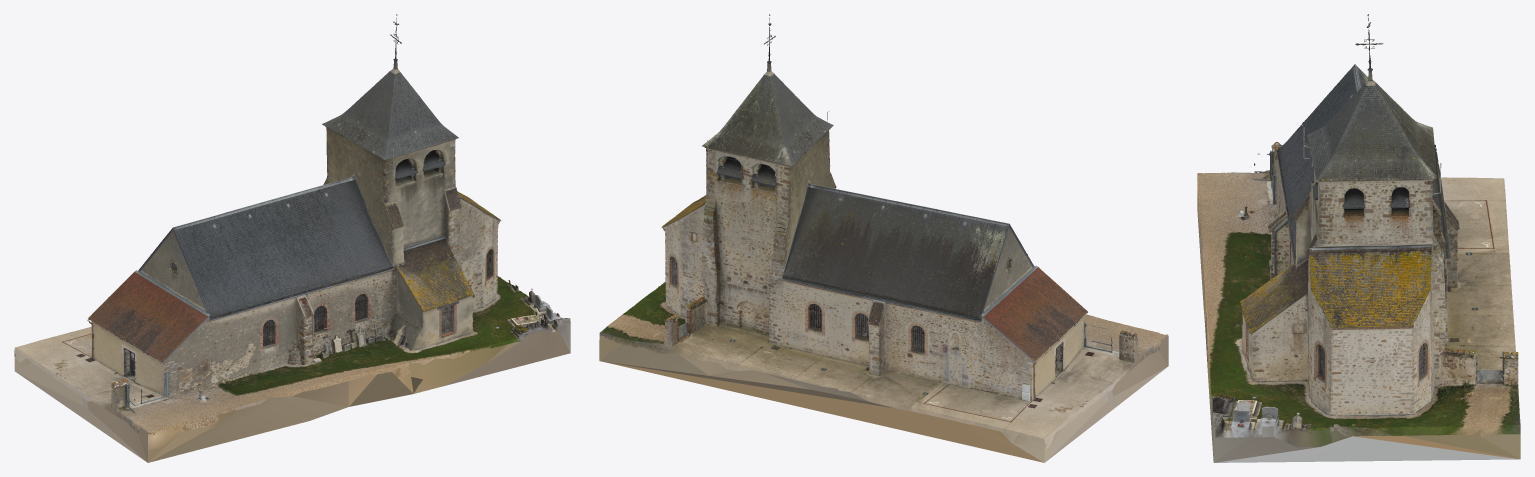
Rendered from eglise.glb.
3 renders of one model, left to right at view 1: azimuth 30°, elevation 25°; view 2: azimuth 150°, elevation 25°; view 3: azimuth 270°, elevation 25°, orthographic. The views are drawn at different scales.
Parts seen in each view (by area): view 1: Object_15, Object_2, Object_3, Object_9, Object_4, Object_13, Object_17, Object_10, Object_19, Object_8, Object_16, Object_18 (+8 smaller); view 2: Object_11, Object_13, Object_9, Object_12, Object_7, Object_16, Object_21, Object_17, Object_19, Object_2, Object_15, Object_8 (+6 smaller); view 3: Object_14, Object_5, Object_13, Object_20, Object_18, Object_16, Object_6, Object_9, Object_10, Object_3, Object_17, Object_2 (+7 smaller).
Boxes of the visible parts, x1,y1,x2,y2 form: Object_15: (144, 178, 365, 393); Object_2: (148, 207, 376, 406); Object_3: (366, 126, 500, 286); Object_9: (14, 195, 570, 461); Object_4: (321, 86, 430, 376); Object_13: (14, 276, 518, 462); Object_17: (82, 340, 278, 462); Object_10: (373, 14, 481, 359); Object_19: (155, 100, 359, 391); Object_8: (314, 180, 417, 371); Object_16: (89, 254, 570, 358); Object_18: (379, 100, 501, 283); Object_11: (785, 193, 989, 370); Object_13: (599, 281, 1113, 462); Object_9: (600, 195, 1166, 462); Object_12: (719, 205, 1077, 382); Object_7: (787, 112, 926, 349); Object_16: (602, 261, 1076, 408); Object_21: (786, 320, 1168, 383); Object_17: (916, 314, 1168, 405); Object_19: (722, 111, 1085, 352); Object_2: (911, 207, 1026, 287); Object_15: (793, 186, 1100, 348); Object_8: (617, 210, 809, 389); Object_14: (1208, 115, 1459, 427); Object_5: (1211, 246, 1406, 430); Object_13: (1197, 177, 1520, 459); Object_20: (1263, 262, 1513, 427); Object_18: (1275, 124, 1440, 345); Object_16: (1213, 264, 1518, 462); Object_6: (1203, 162, 1457, 384); Object_9: (1207, 177, 1520, 460); Object_10: (1208, 14, 1443, 378); Object_3: (1270, 124, 1342, 349); Object_17: (1197, 142, 1282, 261); Object_2: (1203, 64, 1368, 324).
Size of the model in its own units: 33.47 by 23.43 by 17.86.
Materials: 20 (20 with a texture image).
